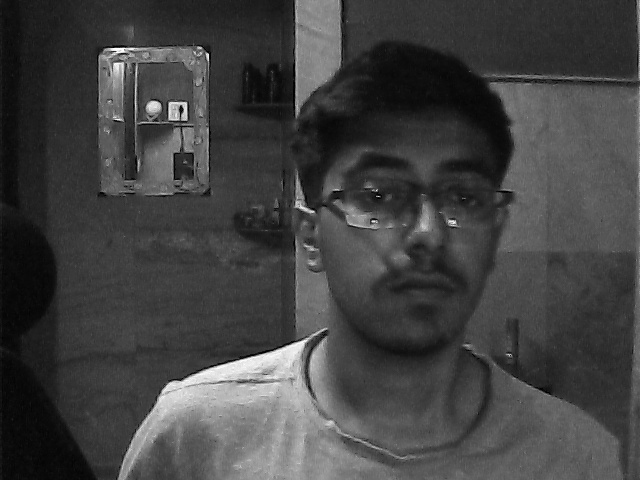nomask: (315, 91, 501, 353)
